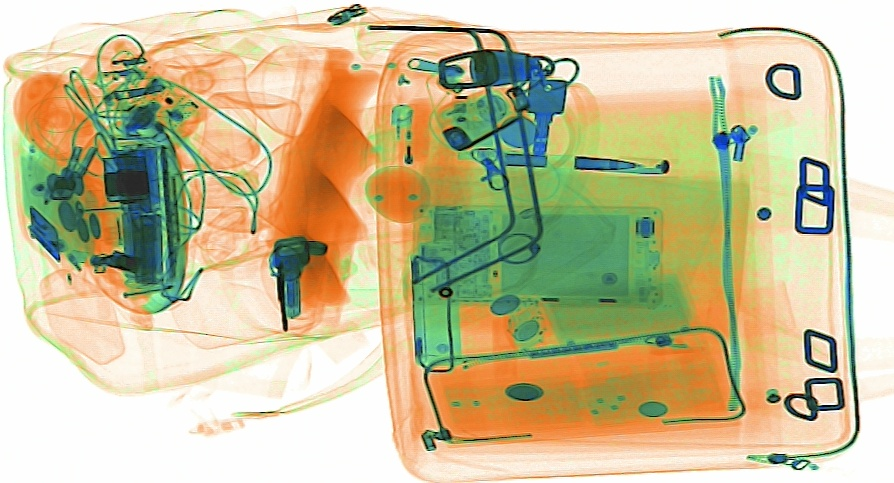lighter: (383, 101, 416, 225)
powerbank: (111, 135, 167, 290)
